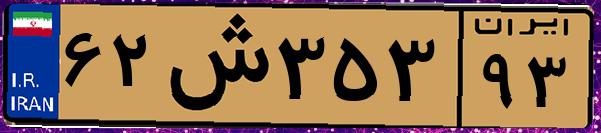2: (110, 28, 158, 98)
3: (270, 28, 330, 110), (385, 28, 445, 110), (525, 38, 570, 115)
5: (330, 28, 385, 110)
6: (57, 26, 110, 100)
9: (475, 38, 525, 113)
ش: (158, 12, 270, 120)
